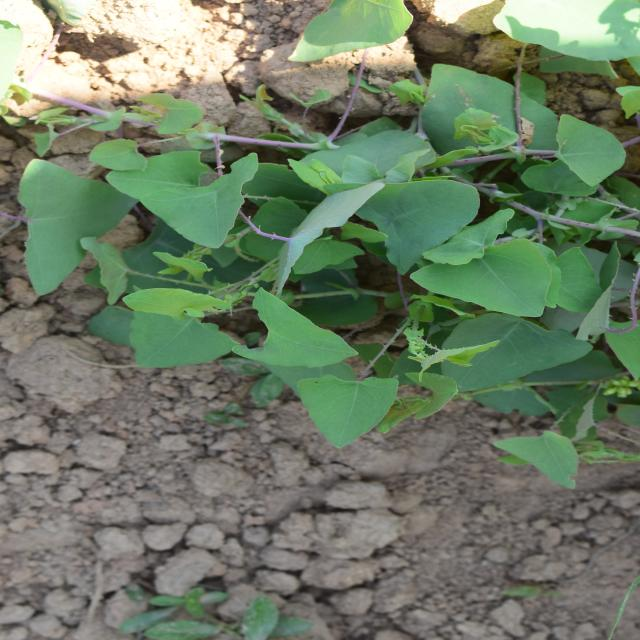Asiatic_Smartweed: (322, 350, 540, 619), (267, 83, 464, 367), (152, 307, 328, 592), (334, 1, 511, 137)
